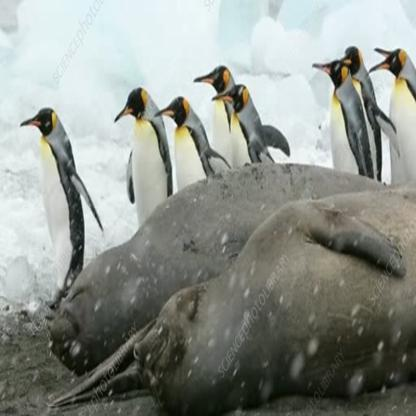Penguin: (17, 94, 114, 318), (101, 73, 175, 248), (212, 69, 292, 226), (152, 85, 231, 237), (309, 46, 376, 217), (190, 56, 254, 234), (322, 37, 382, 179), (365, 44, 416, 202)
